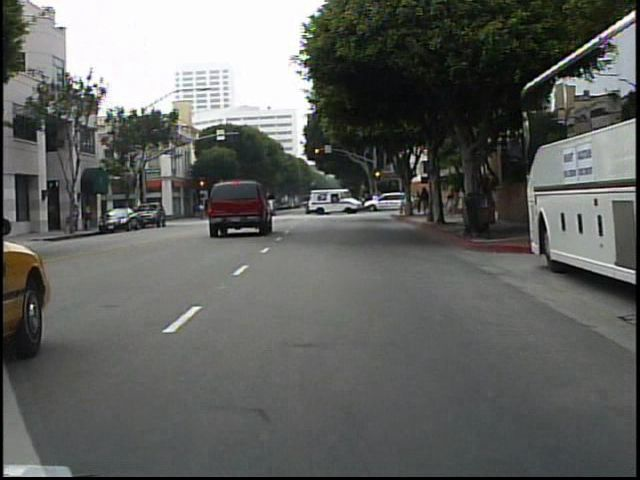person: (445, 182, 460, 221), (458, 181, 467, 218)
